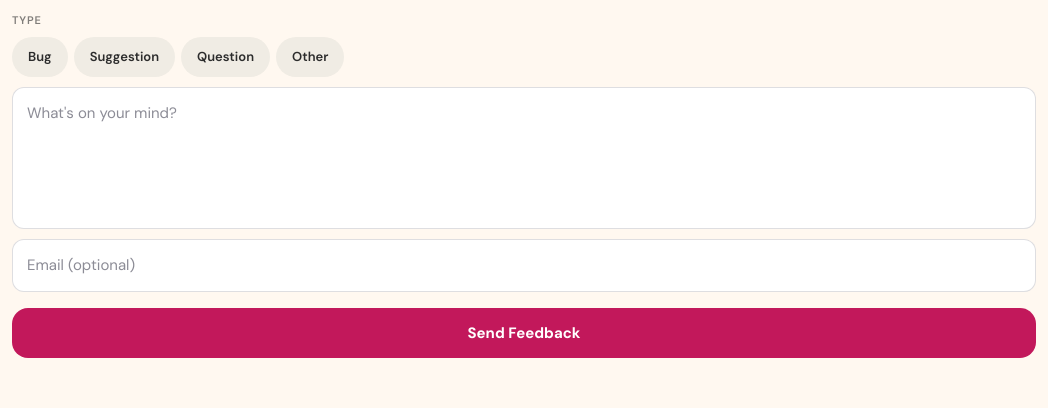
Scenario: FeedbackForm › blocks submission when the message is empty, even with a type chosen
What coordinates should you click on to do the following:
click the radio button labelled "Bug"
I would click on:
 (40, 57)
Its box is [12,37,68,76].
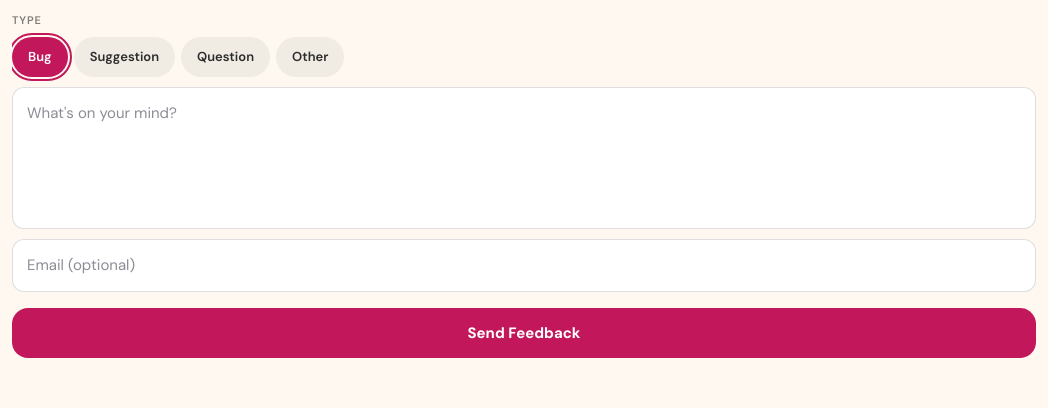
What coordinates should you click on to do the following:
click the button "Send Feedback"
I would click on:
 (524, 333)
Its box is [12,308,1036,358].
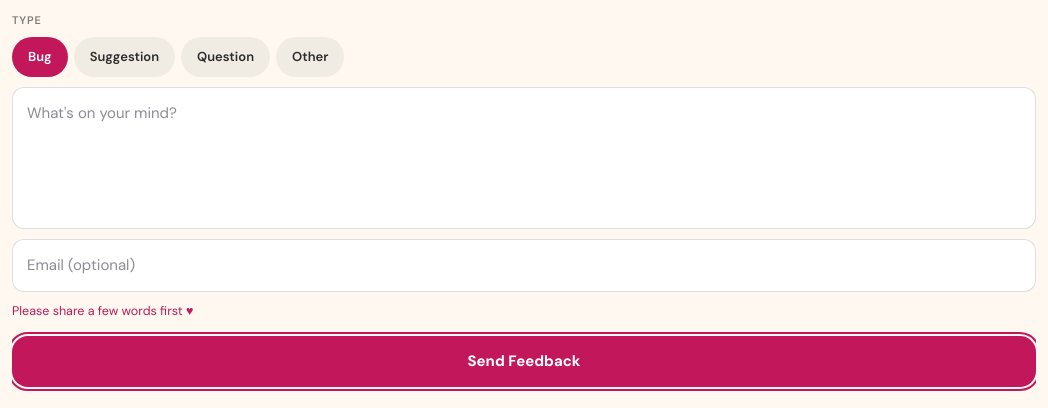
expect the message shows "share a few words": met, box [12,302,193,318]
